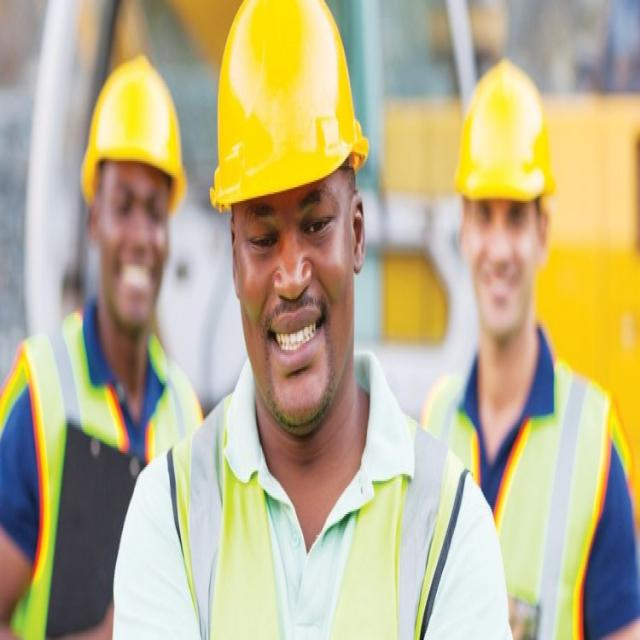Reflective-Jacket: (162, 407, 469, 640), (4, 320, 197, 640), (429, 358, 617, 640)
Safety-Helmet: (208, 3, 371, 212), (451, 58, 559, 215), (80, 58, 188, 213)
